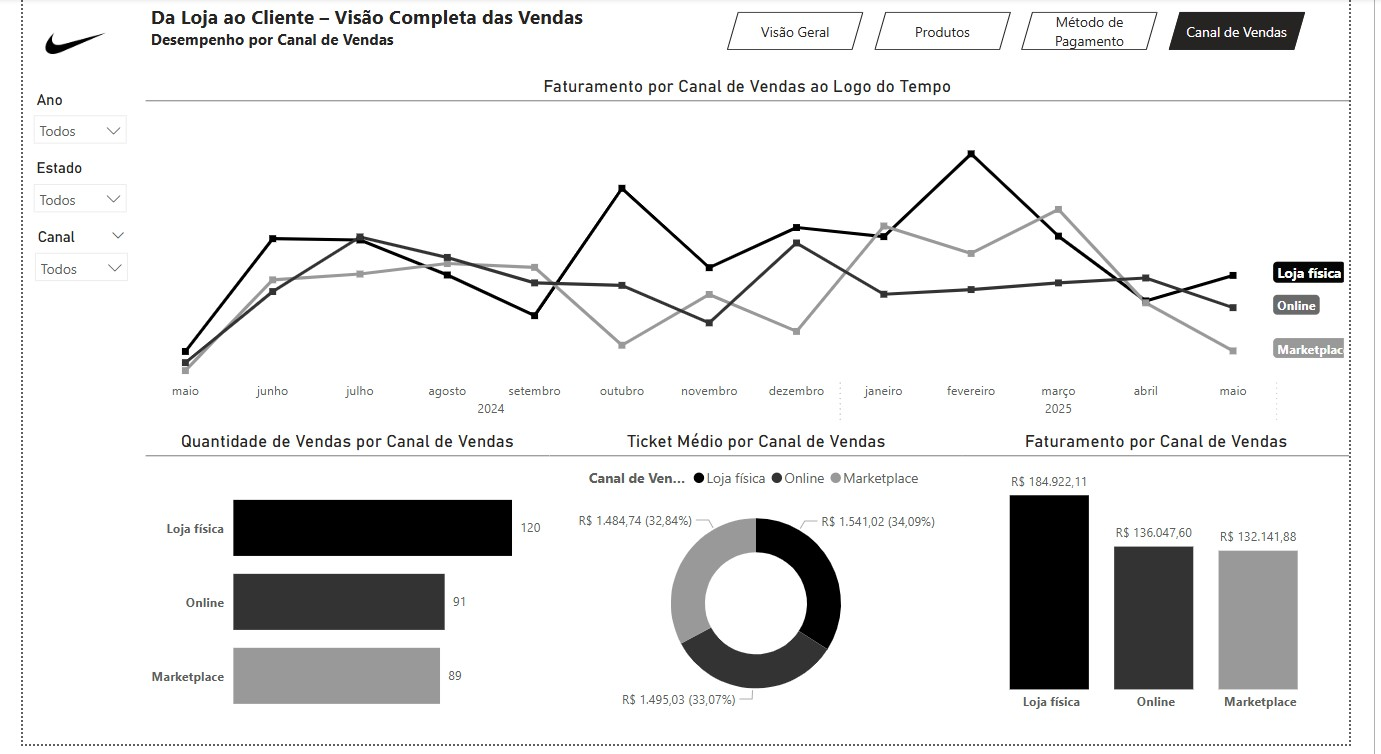

This screenshot's page, from the dashboard's own definition file:
{"tool":"powerbi","page":{"name":"Canal de Vendas","canvas":[1280,720],"ordinal":3},"visuals":[{"type":"slicer","fields":{"Values":["dCalendario.Data.Variation.Hierarquia de datas.Ano"]},"box":[0,84.5,109.8,60.3],"z":0,"group":"g1"},{"type":"textbox","box":[118.2,0,483.8,74.8],"z":0},{"type":"image","box":[17.1,12.9,68.6,61.4],"z":1000},{"type":"slicer","fields":{"Values":["dEstado.ESTADO"]},"box":[0,150.3,109.8,61.5],"z":1000,"group":"g1"},{"type":"group","id":"g1","title":"Grupo 1","box":[0,84.5,111,200.3],"z":2000},{"type":"slicer","fields":{"Values":["dCanal.CANAL"]},"box":[1.2,217.2,109.8,67.6],"z":2000,"group":"g1"},{"type":"donutChart","title":"Ticket Médio por Canal de Vendas","fields":{"Category":["dCanal.CANAL"],"Y":["Medidas.Ticket Médio"]},"box":[503.1,417.4,435.5,278.7],"z":3000},{"type":"barChart","title":"Quantidade de Vendas por Canal de Vendas","fields":{"Y":["Medidas.Qtd Vendas"],"Category":["dCanal.CANAL"]},"box":[118.2,417.4,384.9,299.2],"z":4000},{"type":"lineChart","title":"Faturamento por Canal de Vendas ao Longo do Tempo","fields":{"Y":["Medidas.Faturamento"],"Series":["dCanal.CANAL"],"Category":["dCalendario.Data.Variation.Hierarquia de datas.Ano","dCalendario.Data.Variation.Hierarquia de datas.Mês"]},"box":[118.2,74.8,1161.8,342.6],"z":5000},{"type":"columnChart","title":"Faturamento por Canal de Vendas","fields":{"Category":["dCanal.CANAL"],"Y":["Medidas.Faturamento"]},"box":[907.2,417.4,372.8,278.7],"z":6000},{"type":"pageNavigator","box":[679.2,13.3,558.6,37.4],"z":7000}]}

Visuals, with their boxes on the page's 1280x720 design canvas (x1, y1, x2, y2). These are canvas units, not pixel positions in the 1381x754 screenshot, which may show the page scaled, cropped or inside an application window:
slicer - dCalendario.Data.Variation.Hierarquia de datas.Ano: <region>0, 84, 110, 145</region>
textbox: <region>118, 0, 602, 75</region>
image: <region>17, 13, 86, 74</region>
slicer - dEstado.ESTADO: <region>0, 150, 110, 212</region>
"Grupo 1" group: <region>0, 84, 111, 285</region>
slicer - dCanal.CANAL: <region>1, 217, 111, 285</region>
"Ticket Médio por Canal de Vendas" donutChart: <region>503, 417, 939, 696</region>
"Quantidade de Vendas por Canal de Vendas" barChart: <region>118, 417, 503, 717</region>
"Faturamento por Canal de Vendas ao Longo do Tempo" lineChart: <region>118, 75, 1280, 417</region>
"Faturamento por Canal de Vendas" columnChart: <region>907, 417, 1280, 696</region>
pageNavigator: <region>679, 13, 1238, 51</region>
